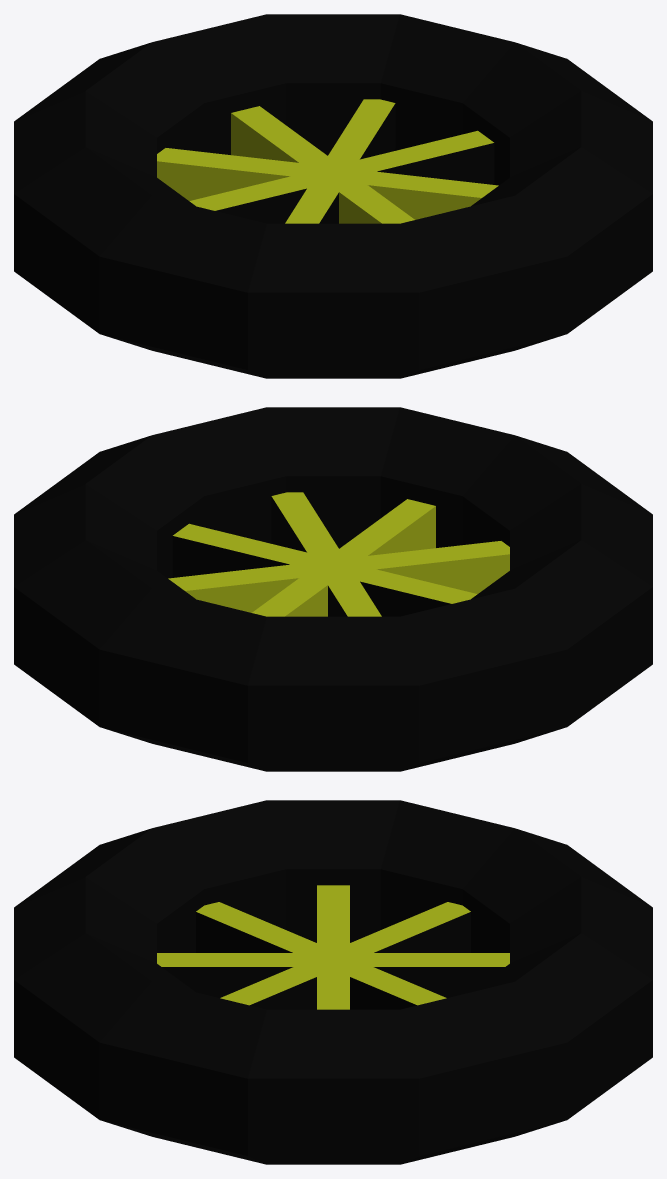
Rendered from motorWheels_egh.obj.
3 views of the same model, one above another, from view 1: azimuth 30°, elevation 25°; view 2: azimuth 150°, elevation 25°; view 3: azimuth 270°, elevation 25° (orthographic).
Visible parts, largest first — view 1: wheel; view 2: wheel; view 3: wheel.
Boxes of the visible parts, left/top/right/bottom form: wheel: left=14, top=14, right=652, bottom=378; wheel: left=14, top=407, right=652, bottom=771; wheel: left=14, top=800, right=652, bottom=1164.
Size of the model in its own units: 0.4833 by 0.1294 by 0.4833.
Materials: 1 (1 with a texture image).
